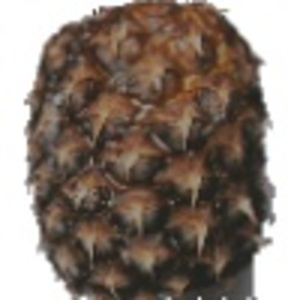abacaxi: (16, 4, 277, 296)
